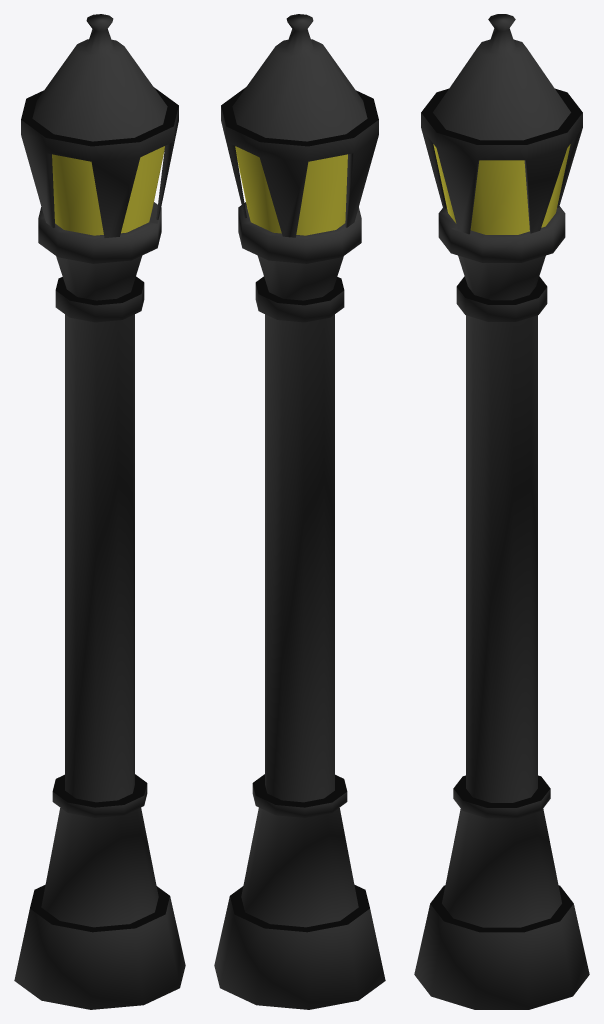
The model's file is sokak lambası.fbx.
3 renders of one model, left to right at view 1: azimuth 30°, elevation 25°; view 2: azimuth 150°, elevation 25°; view 3: azimuth 270°, elevation 25°, orthographic.
Visible parts, largest first — view 1: İkosfer.002; view 2: İkosfer.002; view 3: İkosfer.002.
Part boxes in pixels (bbox=[...]): İkosfer.002: bbox=[14, 14, 185, 1009]; İkosfer.002: bbox=[214, 14, 385, 1009]; İkosfer.002: bbox=[414, 14, 589, 1009].
Bounding box in the file's own units: 190 × 1201 × 200.
